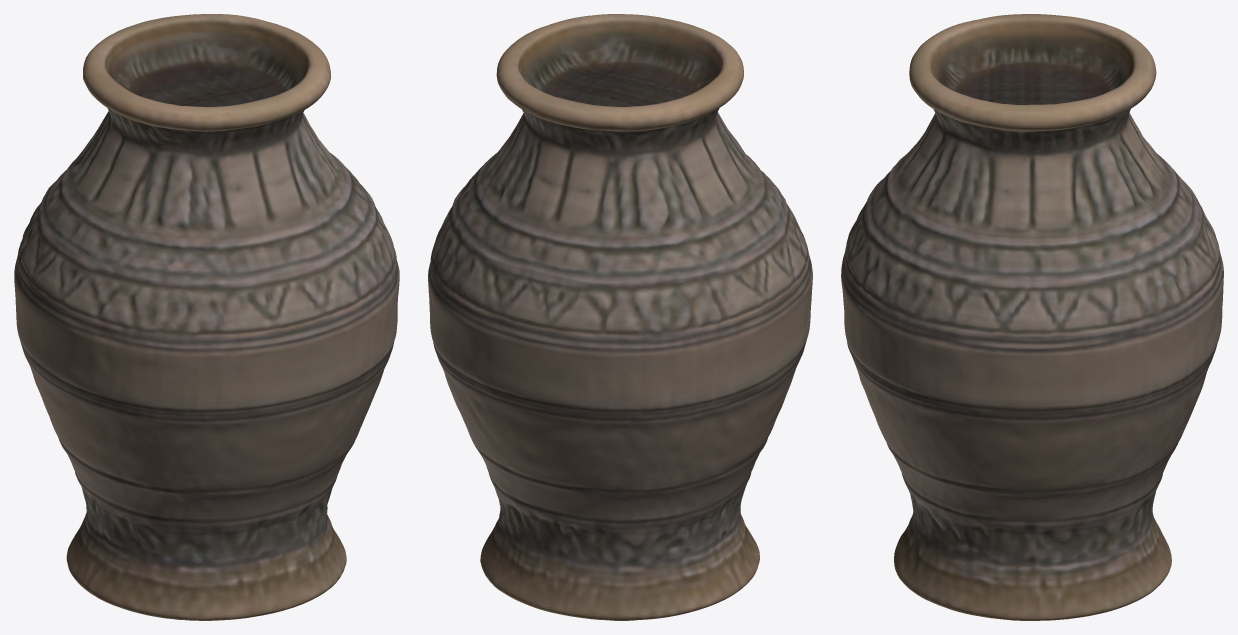
The model's file is vase2.glb.
3 views of the same model, side by side, from view 1: azimuth 30°, elevation 25°; view 2: azimuth 150°, elevation 25°; view 3: azimuth 270°, elevation 25° (orthographic).
Parts seen in each view (by area): view 1: high_poly_0; view 2: high_poly_0; view 3: high_poly_0.
Boxes of the visible parts, box(x1,y1,x2,y2) form: high_poly_0: box(14, 14, 399, 620); high_poly_0: box(428, 14, 812, 620); high_poly_0: box(841, 14, 1223, 620).
Size of the model in its own units: 0.6831 by 1 by 0.6857.
Materials: 1 (1 with a texture image).
